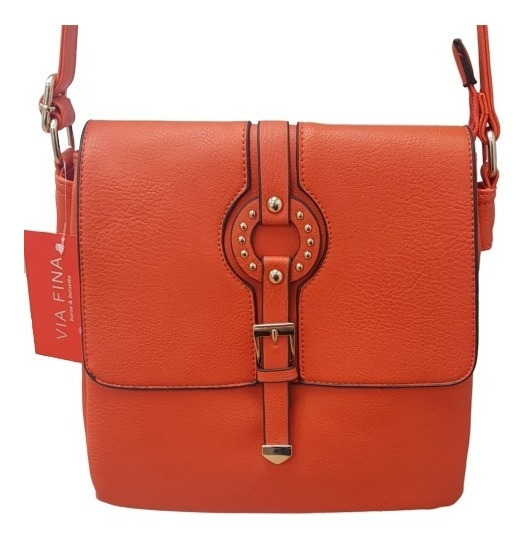cartera: (25, 23, 503, 516)
